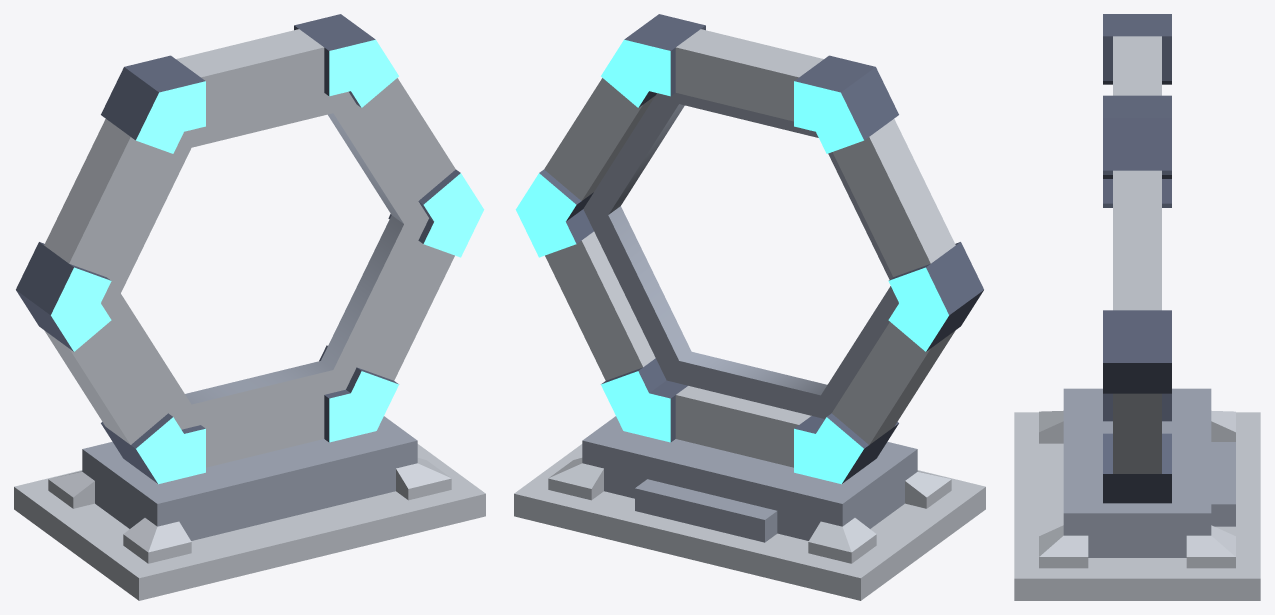
File: gate_complex.glb
3 views of the same model, side by side, from view 1: azimuth 30°, elevation 25°; view 2: azimuth 150°, elevation 25°; view 3: azimuth 270°, elevation 25° (orthographic).
Visible parts, largest first — view 1: gate_complex; view 2: gate_complex; view 3: gate_complex.
Boxes of the visible parts, x1=… form: gate_complex: x1=14, y1=14, x2=485, y2=600; gate_complex: x1=514, y1=14, x2=985, y2=600; gate_complex: x1=1014, y1=14, x2=1260, y2=600.
Bounding box in the file's own units: 1 × 1.01 × 0.5.
